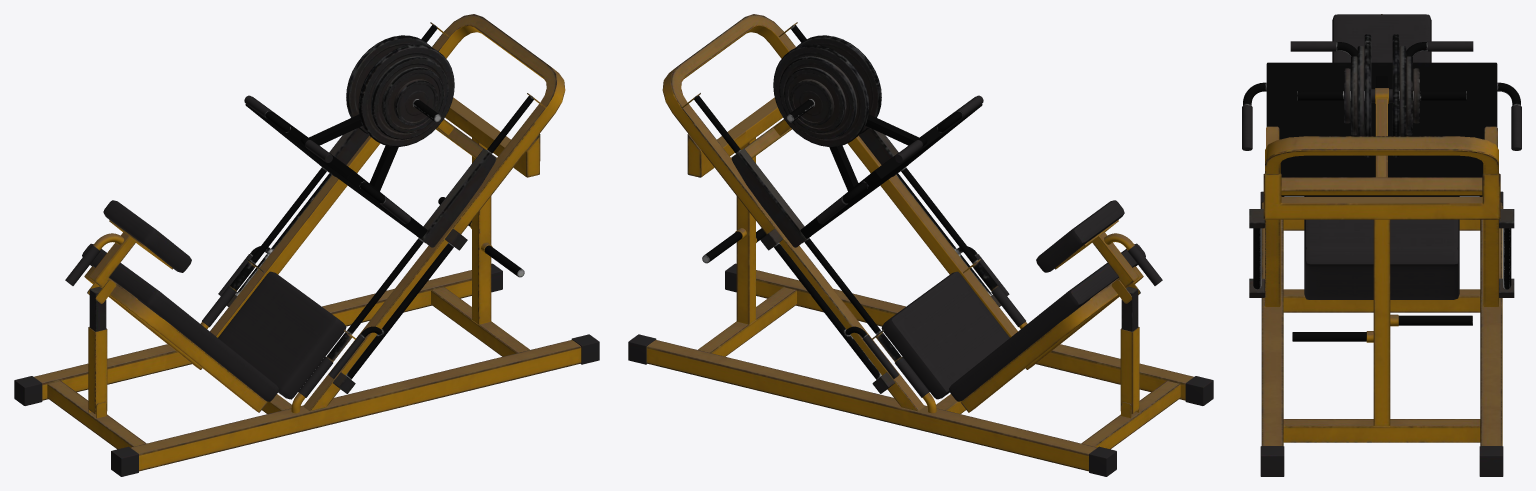
3 renders of one model, left to right at view 1: azimuth 30°, elevation 25°; view 2: azimuth 150°, elevation 25°; view 3: azimuth 270°, elevation 25°, orthographic. The views are drawn at different scales.
Parts seen in each view (by area): view 1: Main_Frame, Seat, Base, Foot_Place, Bar_XL, Seat_Adjuster, Bars_Large, Bar_Medium, Bar_Small; view 2: Main_Frame, Seat, Base, Foot_Place, Bar_XL, Seat_Adjuster, Bars_Large, Bar_Medium, Bar_Small; view 3: Main_Frame, Foot_Place, Seat, Base, Bar_XL, Bars_Large, Bar_Medium, Bar_Small.
Part boxes in pixels (x1=…): Main_Frame: x1=14, y1=14, x2=599, y2=476; Seat: x1=82, y1=200, x2=346, y2=401; Base: x1=200, y1=22, x2=545, y2=413; Foot_Place: x1=244, y1=95, x2=441, y2=238; Bar_XL: x1=346, y1=35, x2=454, y2=146; Seat_Adjuster: x1=65, y1=232, x2=136, y2=331; Bars_Large: x1=370, y1=56, x2=448, y2=139; Bar_Medium: x1=381, y1=67, x2=443, y2=133; Bar_Small: x1=393, y1=79, x2=437, y2=125; Main_Frame: x1=628, y1=14, x2=1213, y2=476; Seat: x1=881, y1=200, x2=1145, y2=401; Base: x1=682, y1=22, x2=1027, y2=413; Foot_Place: x1=786, y1=95, x2=983, y2=238; Bar_XL: x1=773, y1=35, x2=881, y2=146; Seat_Adjuster: x1=1092, y1=232, x2=1162, y2=331; Bars_Large: x1=779, y1=56, x2=857, y2=139; Bar_Medium: x1=784, y1=67, x2=846, y2=133; Bar_Small: x1=790, y1=79, x2=834, y2=125; Main_Frame: x1=1260, y1=136, x2=1503, y2=476; Foot_Place: x1=1242, y1=41, x2=1521, y2=196; Seat: x1=1304, y1=14, x2=1459, y2=299; Base: x1=1249, y1=111, x2=1514, y2=297; Bar_XL: x1=1364, y1=34, x2=1399, y2=157; Bars_Large: x1=1357, y1=46, x2=1406, y2=136; Bar_Medium: x1=1351, y1=56, x2=1412, y2=135; Bar_Small: x1=1344, y1=68, x2=1419, y2=123.
Size of the model in its own units: 2.7 by 1.7 by 1.2.
1 material, 1 textured.
